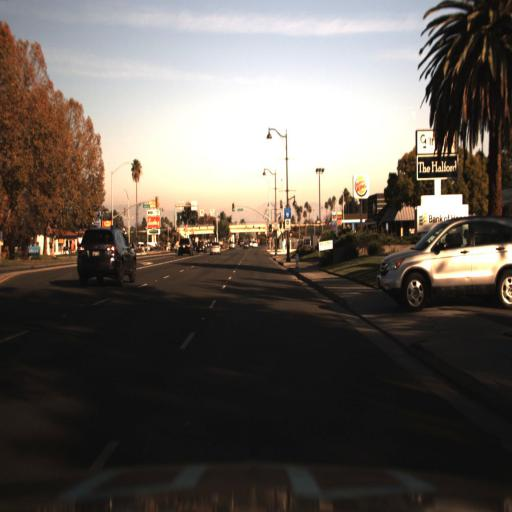car: (378, 214, 511, 315), (74, 226, 144, 300), (174, 234, 196, 256), (195, 234, 208, 257), (210, 238, 224, 258), (207, 237, 222, 255), (177, 239, 192, 255)
